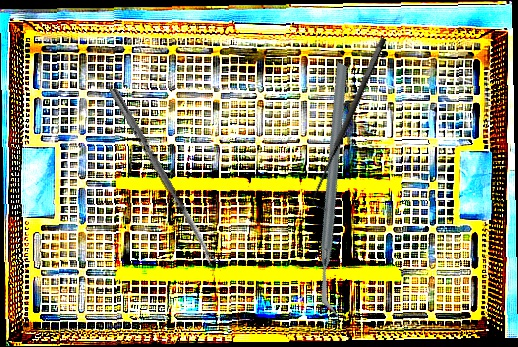Chopper: (231, 61, 442, 316)
Hook Surgical: (305, 36, 400, 211)
Surgical Spoon: (108, 87, 217, 266)
